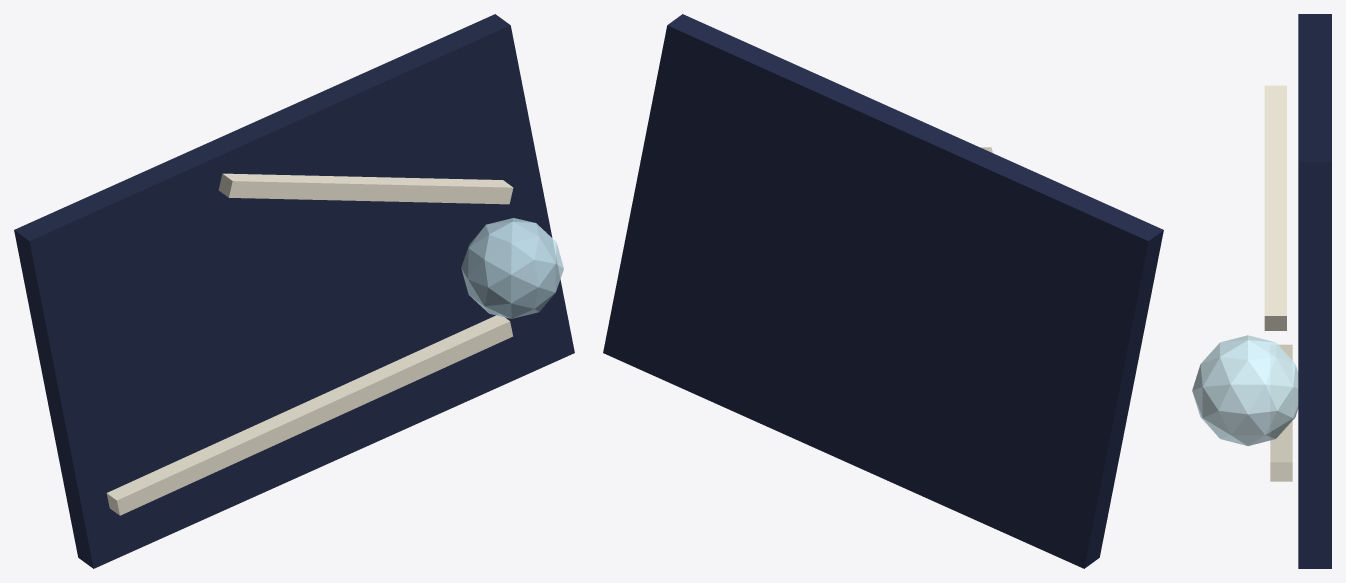
File: 02_world_prop_polish.glb
3 views of the same model, side by side, from view 1: azimuth 30°, elevation 25°; view 2: azimuth 150°, elevation 25°; view 3: azimuth 270°, elevation 25° (orthographic). The views are drawn at different scales.
Parts seen in each view (by area): view 1: object_overlay_plate, edge_wear_a, glow_socket, edge_wear_b; view 2: object_overlay_plate; view 3: object_overlay_plate, glow_socket, edge_wear_b, edge_wear_a.
Boxes of the visible parts, x1,y1,x2,y2 form: object_overlay_plate: (14, 14, 574, 568); edge_wear_a: (106, 314, 513, 515); glow_socket: (461, 218, 563, 318); edge_wear_b: (218, 173, 513, 204); object_overlay_plate: (603, 14, 1163, 568); object_overlay_plate: (1298, 14, 1331, 568); glow_socket: (1192, 335, 1298, 445); edge_wear_b: (1264, 85, 1286, 330); edge_wear_a: (1270, 344, 1292, 481).
Size of the model in its own units: 1.22 by 0.9472 by 0.25.
